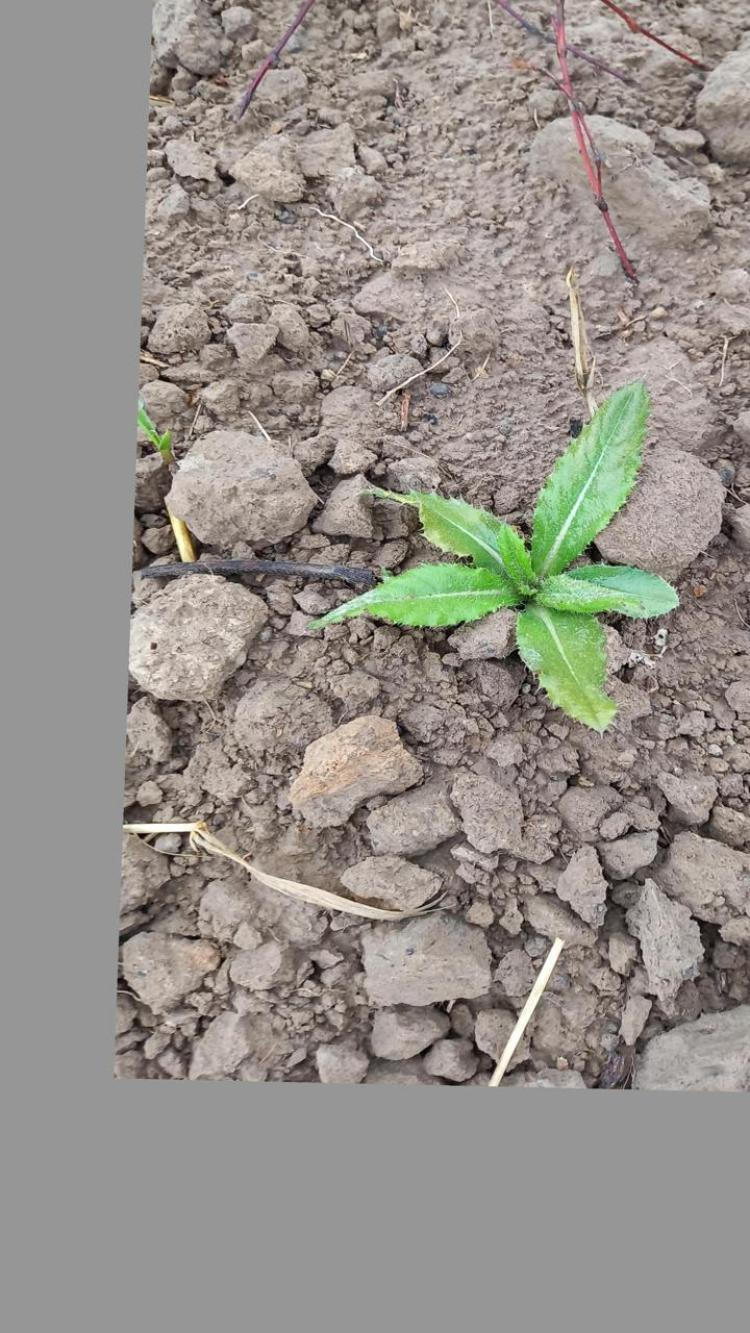bodyak: (312, 381, 686, 735)
